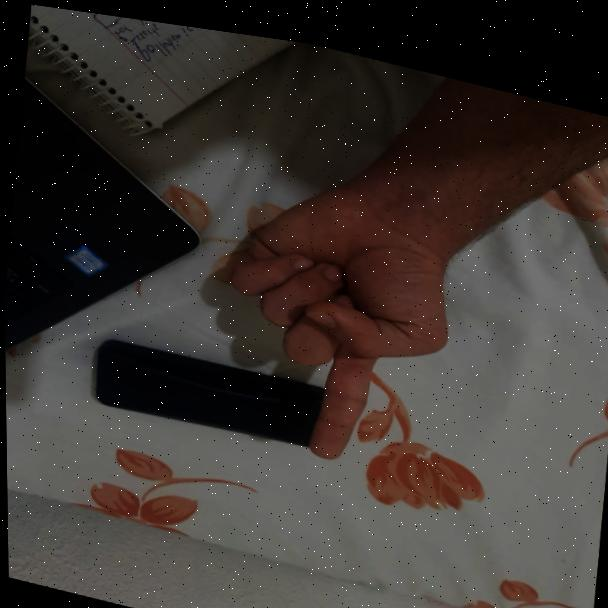one: (207, 142, 466, 478)
